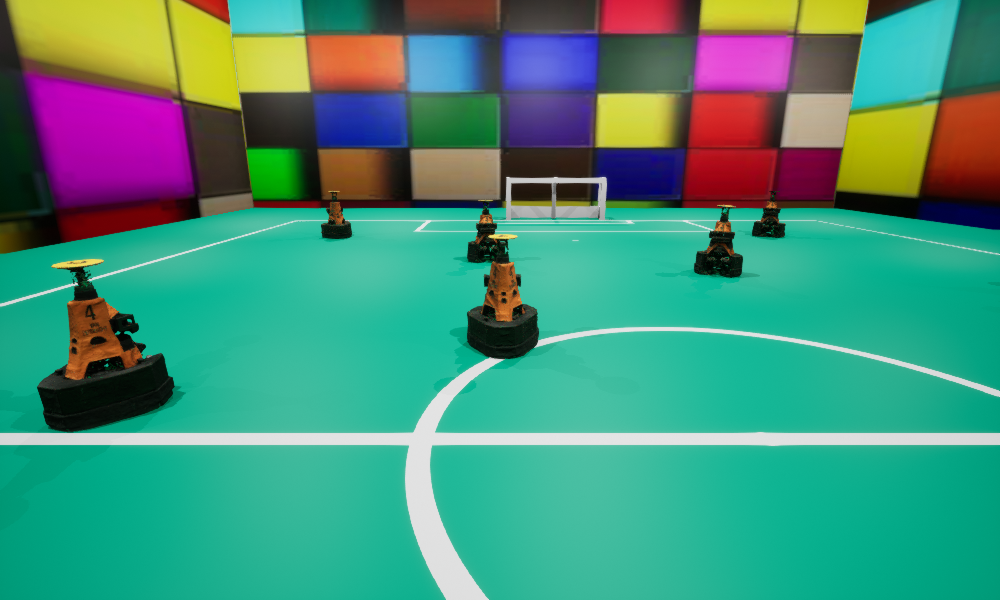o: (37, 259, 174, 431), (467, 234, 538, 358), (694, 205, 742, 276), (467, 200, 505, 262), (752, 191, 785, 236), (321, 191, 351, 238)
